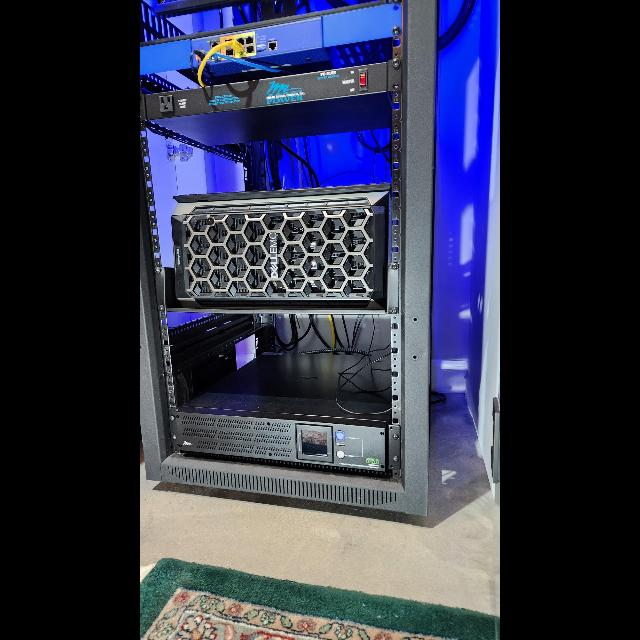Server: (152, 2, 444, 524)
